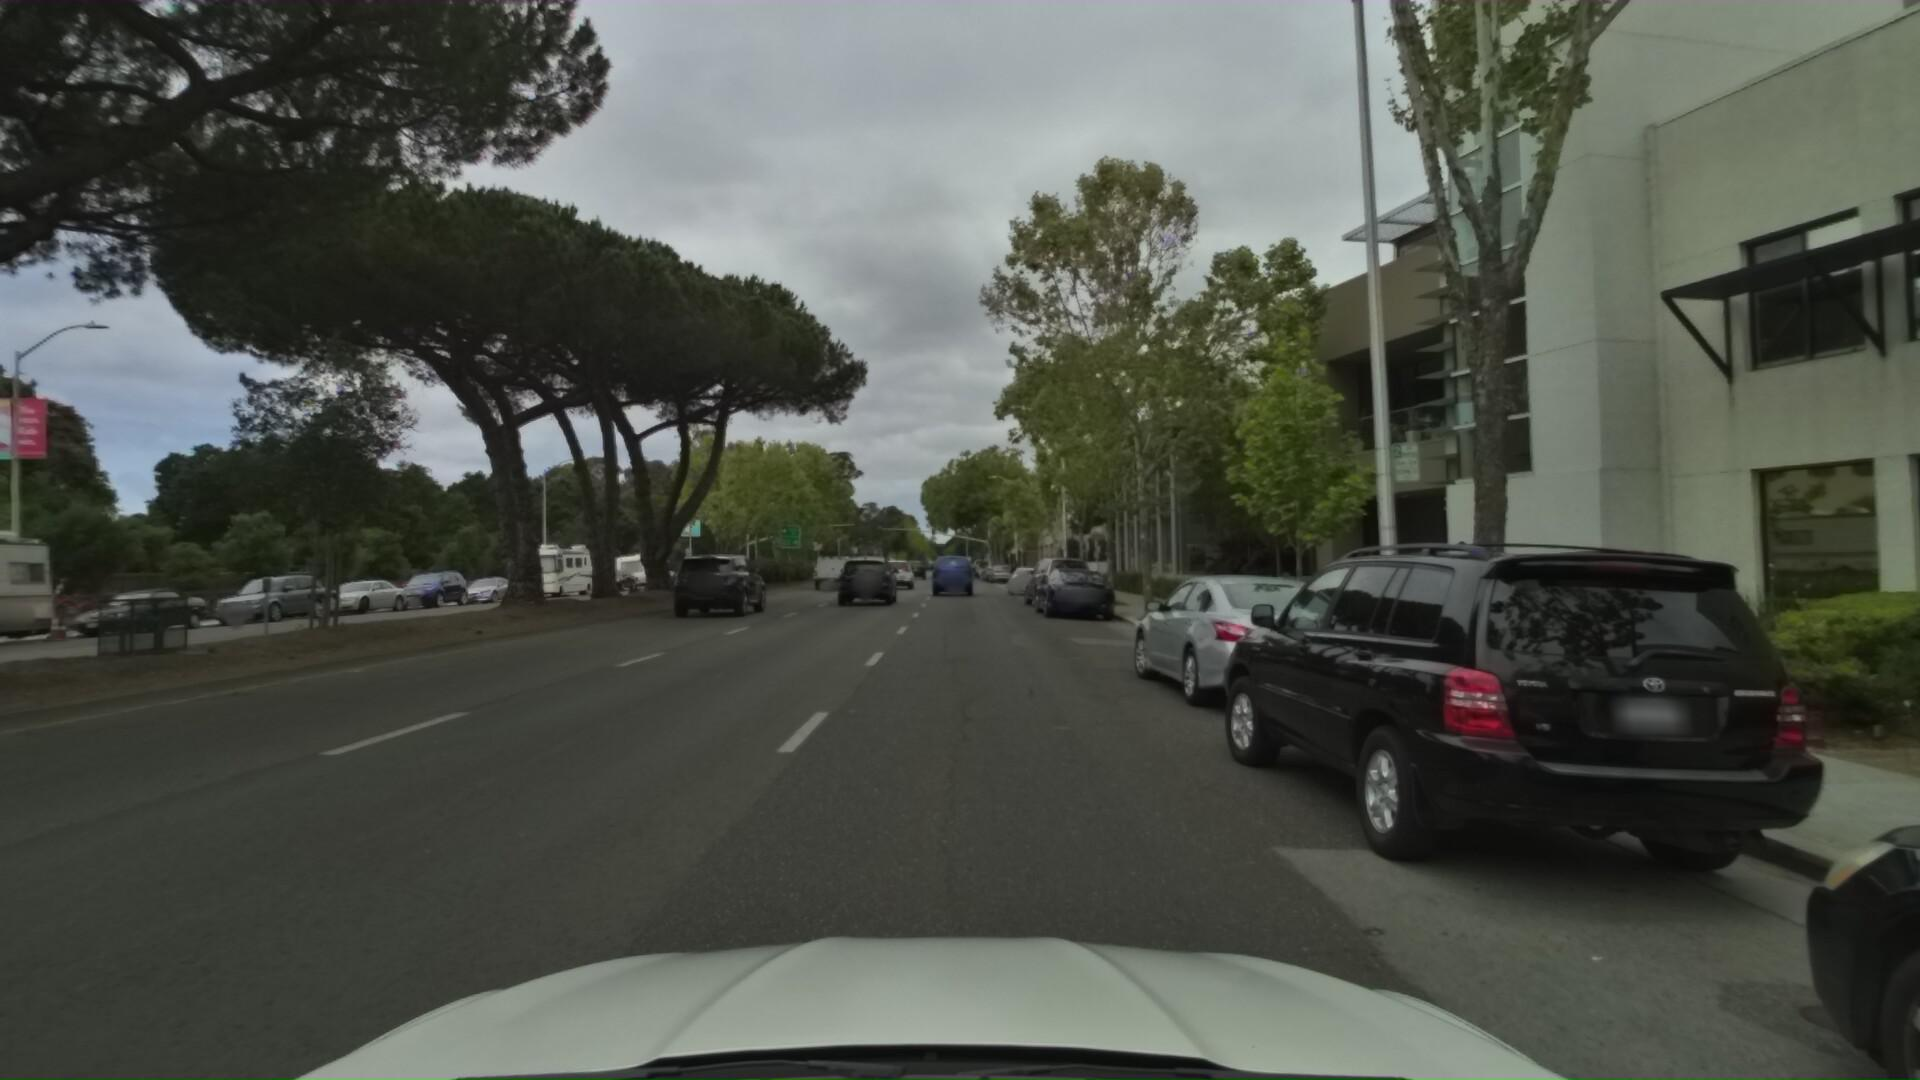bicycle: (1007, 555, 1025, 585)
car: (1201, 513, 1920, 1007), (1125, 563, 1414, 727), (53, 580, 214, 636), (661, 546, 771, 622), (194, 568, 334, 622), (1030, 559, 1118, 618), (299, 572, 414, 615), (1022, 549, 1097, 608), (831, 550, 902, 611), (385, 563, 479, 607), (446, 567, 526, 601), (926, 549, 976, 596), (808, 550, 857, 591), (877, 550, 920, 592), (1007, 558, 1048, 591), (988, 554, 1017, 578), (982, 553, 1010, 575)
other_vehicle: (502, 527, 612, 597), (609, 542, 674, 584)
